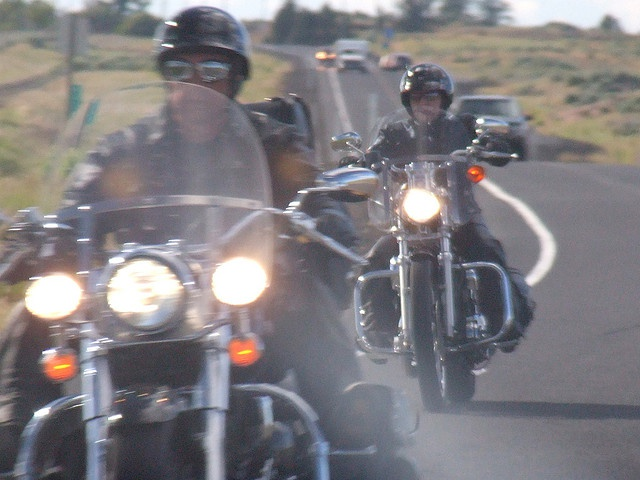non-vehicle: (5, 80, 379, 473), (332, 111, 525, 418)
